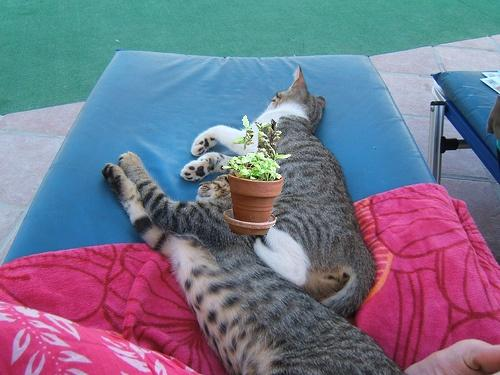tampered: (223, 116, 291, 235)
